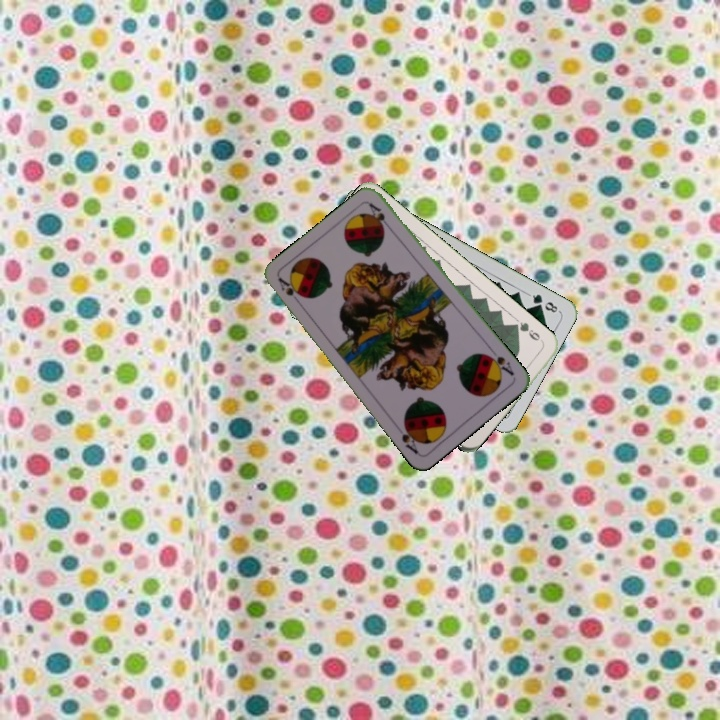G8: (525, 290, 562, 315)
G9: (509, 318, 543, 343)
SA: (482, 346, 517, 378), (274, 274, 304, 308)
